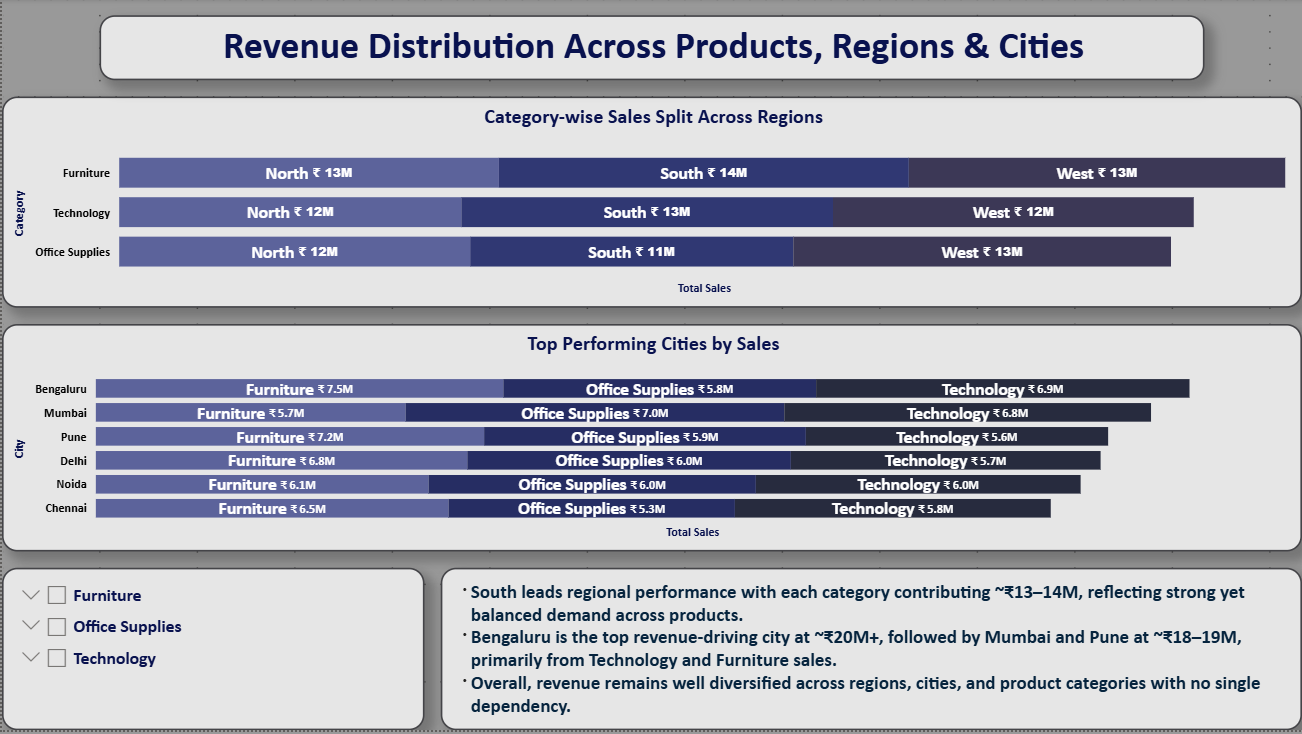

What the dashboard file says about the page in this screenshot:
{"tool":"powerbi","page":{"name":"Sales Performance","canvas":[1280,720],"ordinal":1},"visuals":[{"type":"barChart","title":"Top Performing Cities by Sales","fields":{"Category":["Fact_Orders.City"],"Y":["Fact_Orders.Total Sales"],"Series":["DimProduct.Category"]},"box":[0,320,1280,224],"z":0},{"type":"barChart","title":"Category-wise Sales Split Across Regions","fields":{"Category":["DimProduct.Category"],"Series":["Fact_Orders.Region"],"Y":["Fact_Orders.Total Sales"]},"box":[0,96,1280,208],"z":1000},{"type":"slicer","title":"Sales, Quantity & Profit by Product Hierarchy","fields":{"Values":["DimProduct.Category Hierarchy.Category","DimProduct.Category Hierarchy.SubCategory"]},"box":[0,560,416,160],"z":2000},{"type":"textbox","title":"Revenue Distribution Across Products, Regions & Cities","box":[96,16,1088,64],"z":3000},{"type":"textbox","box":[432,560,848,160],"z":4000}]}

Visuals, with their boxes in screenshot pixels (x1, y1, x2, y2), scaled from the page's 1280x720 canvas onto the 1302x734 screenshot:
"Top Performing Cities by Sales" barChart: bbox(0, 326, 1301, 555)
"Category-wise Sales Split Across Regions" barChart: bbox(0, 98, 1301, 310)
"Sales, Quantity & Profit by Product Hierarchy" slicer: bbox(0, 571, 423, 733)
"Revenue Distribution Across Products, Regions & Cities" textbox: bbox(98, 16, 1204, 82)
textbox: bbox(439, 571, 1301, 733)
